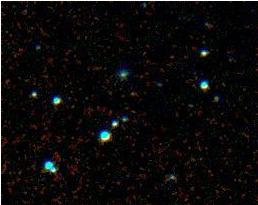star: (115, 77, 145, 107)
